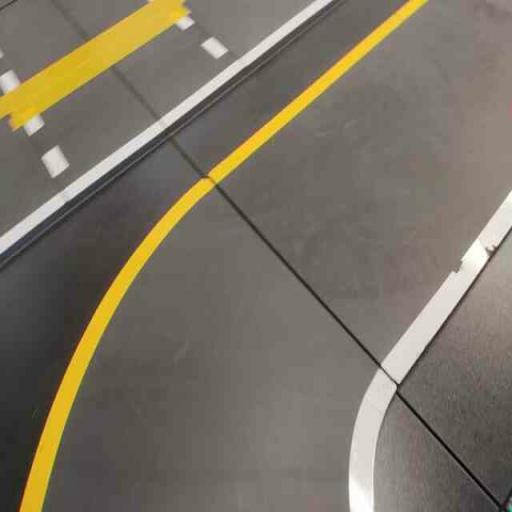right: (3, 141, 511, 511)
